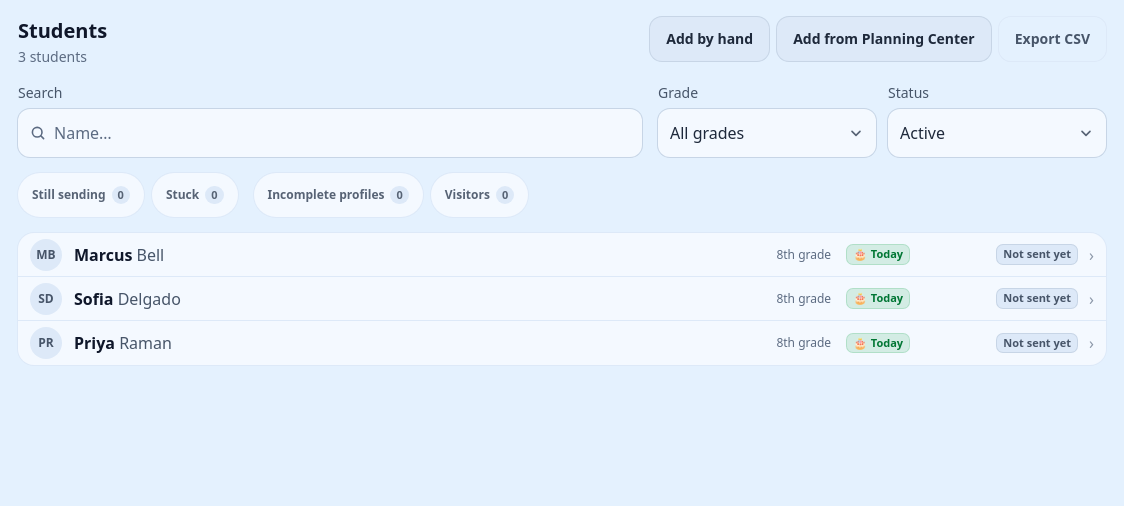
Test: the roster while the deferred search catches up › never offers to import a roster it is already holding
The width and height of the screenshot is (1124, 506).
In the search field labelled "Search": (330, 133) [18,109,642,157], type "zzz"
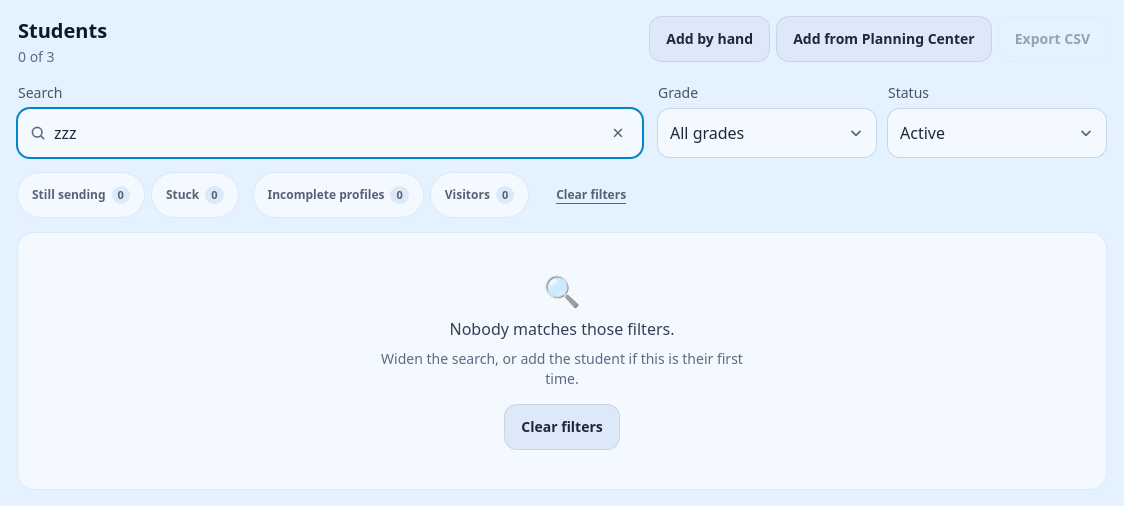
Expected: the text "Nobody matches those filters." is shown, [450,317,674,341]
Click the button named "clear search": (618, 133) [596,111,640,155]
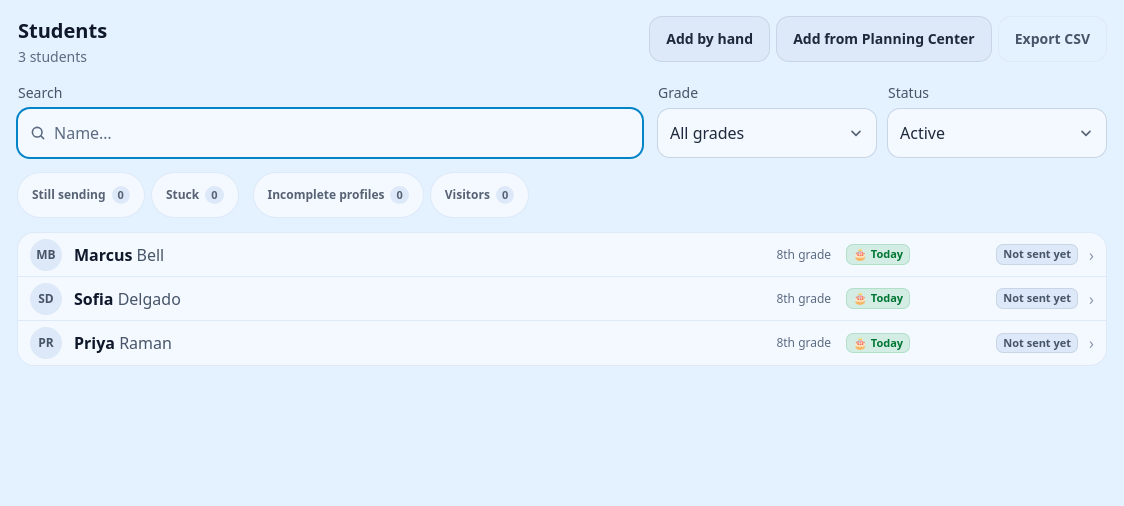
Expected: the link named "Marcus Bell" is shown, [18,233,1106,276]
Expected: the text "Nobody matches those filters." is gone
